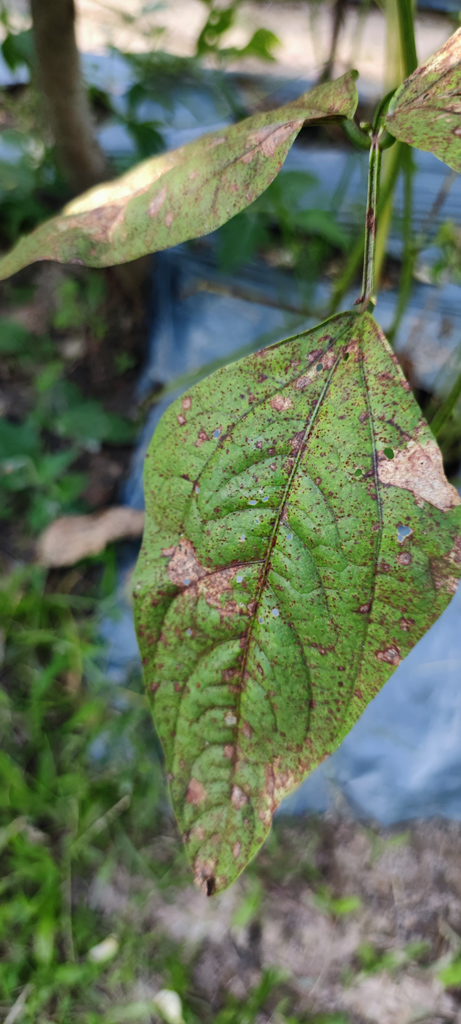Rust: (127, 307, 456, 902), (10, 59, 357, 292), (382, 20, 458, 197)
